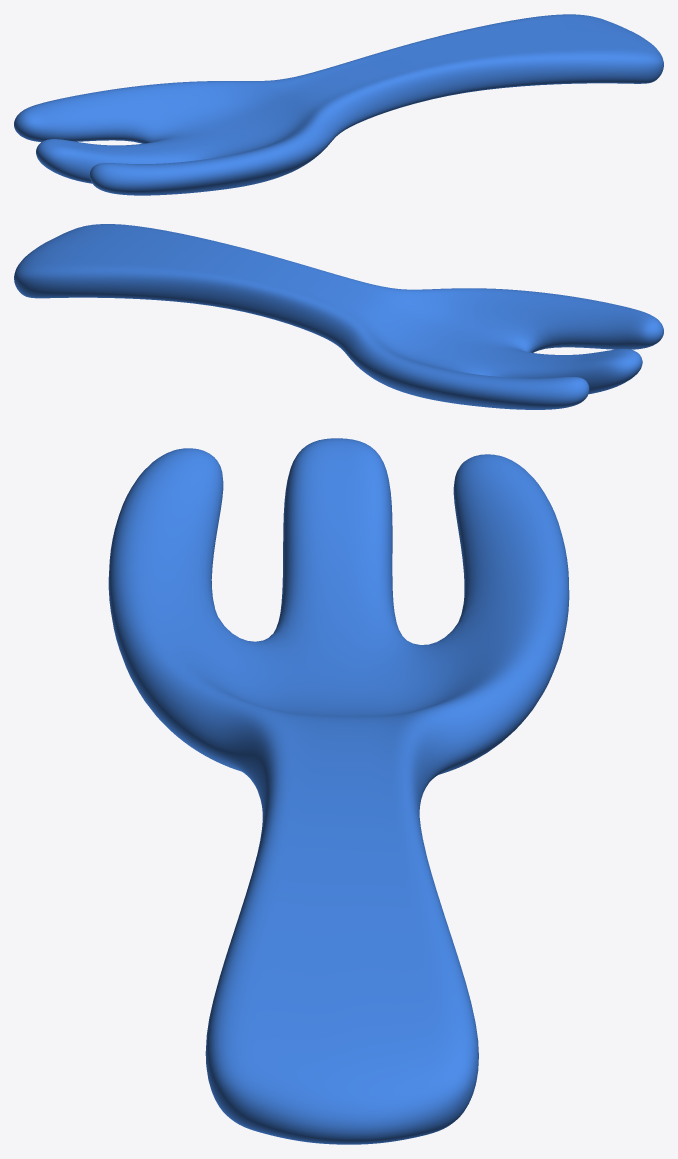
The model's file is Fork.fbx.
3 renders of one model, top to bottom at view 1: azimuth 30°, elevation 25°; view 2: azimuth 150°, elevation 25°; view 3: azimuth 270°, elevation 25°, orthographic. The views are drawn at different scales.
Parts seen in each view (by area): view 1: SM_Fork; view 2: SM_Fork; view 3: SM_Fork.
Boxes of the visible parts, box(x1,y1,x2,y2) form: SM_Fork: box(14, 14, 663, 195); SM_Fork: box(14, 224, 663, 409); SM_Fork: box(108, 438, 569, 1144).
Size of the model in its own units: 57.32 by 6.12 by 18.67.
